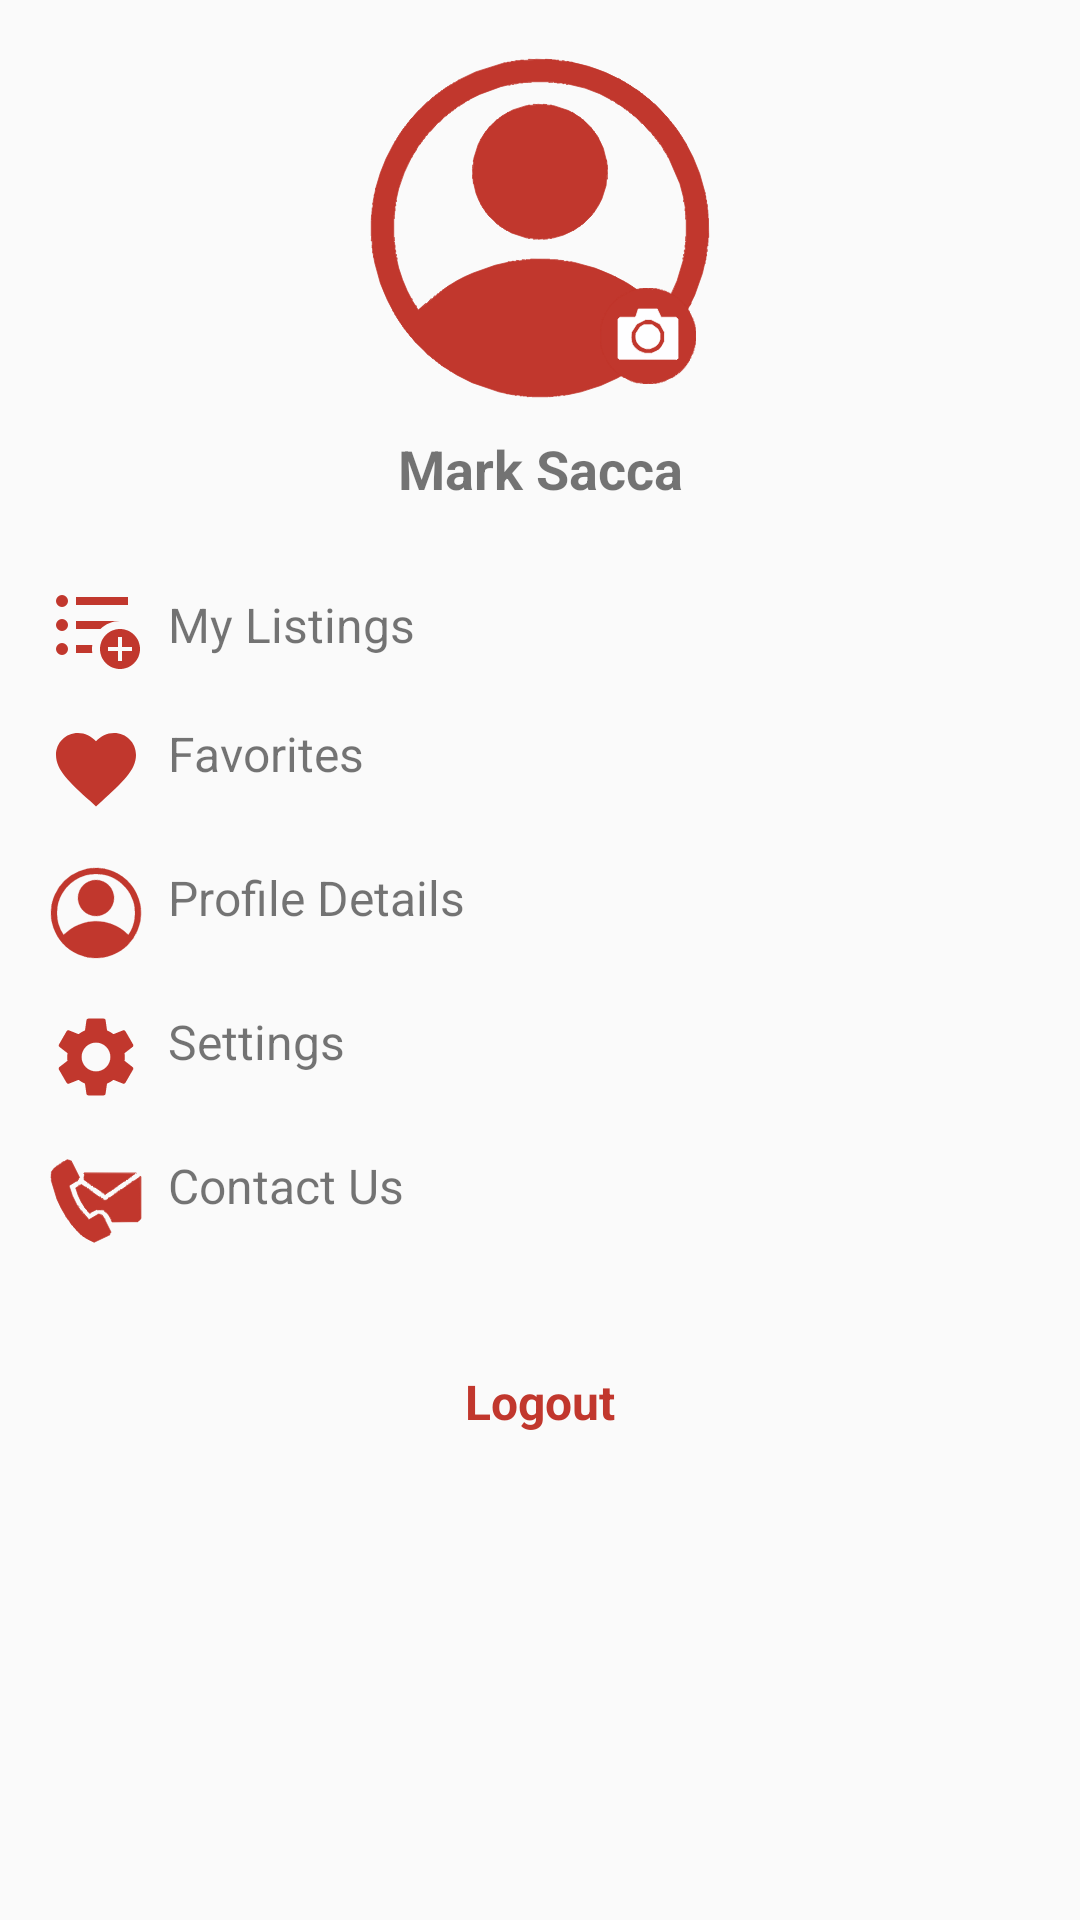

Icon click points for this 1080x1920 phone screenshot, format (x=x, y=y):
format list bulleted add: (x=98, y=632)
